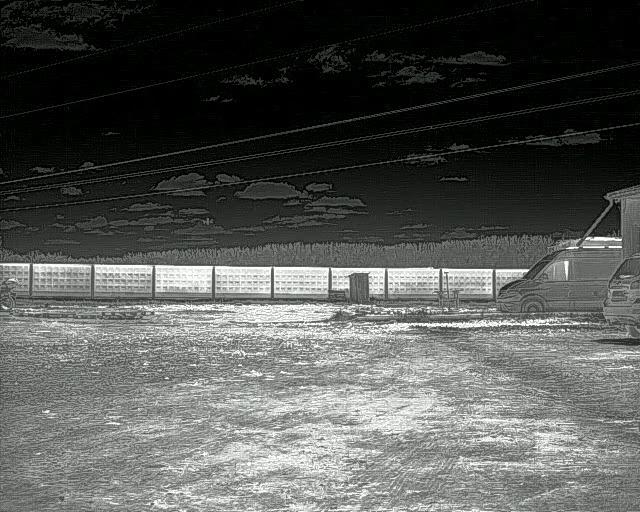drone-thermal: (200, 216, 216, 227)
